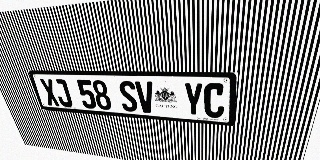5: (76, 80, 98, 109)
8: (91, 80, 112, 110)
C: (204, 83, 226, 118)
J: (52, 79, 73, 107)
S: (118, 81, 139, 112)
V: (135, 81, 155, 113)
X: (39, 79, 61, 106)
Y: (183, 82, 203, 117)
